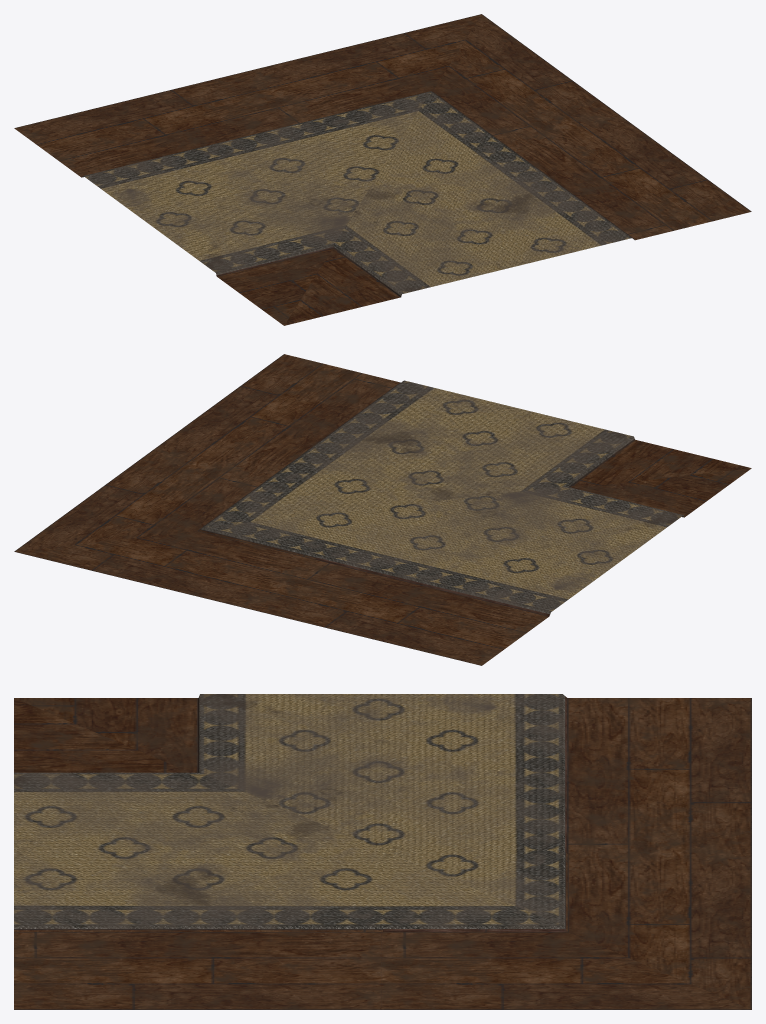
File: SM_Floor_Carpet_Corner.fbx
The picture shows the model from 3 angles, top to bottom: view 1: azimuth 30°, elevation 25°; view 2: azimuth 150°, elevation 25°; view 3: azimuth 270°, elevation 25°; orthographic projection. The views are drawn at different scales.
Parts seen in each view (by area): view 1: SM_Floor_Carpet_Corner; view 2: SM_Floor_Carpet_Corner; view 3: SM_Floor_Carpet_Corner.
Boxes of the visible parts, box(x1,y1,x2,y2) form: SM_Floor_Carpet_Corner: box(14, 14, 751, 325); SM_Floor_Carpet_Corner: box(14, 354, 751, 665); SM_Floor_Carpet_Corner: box(14, 694, 751, 1009).
Bounding box in the file's own units: 400 × 2.37 × 400.
